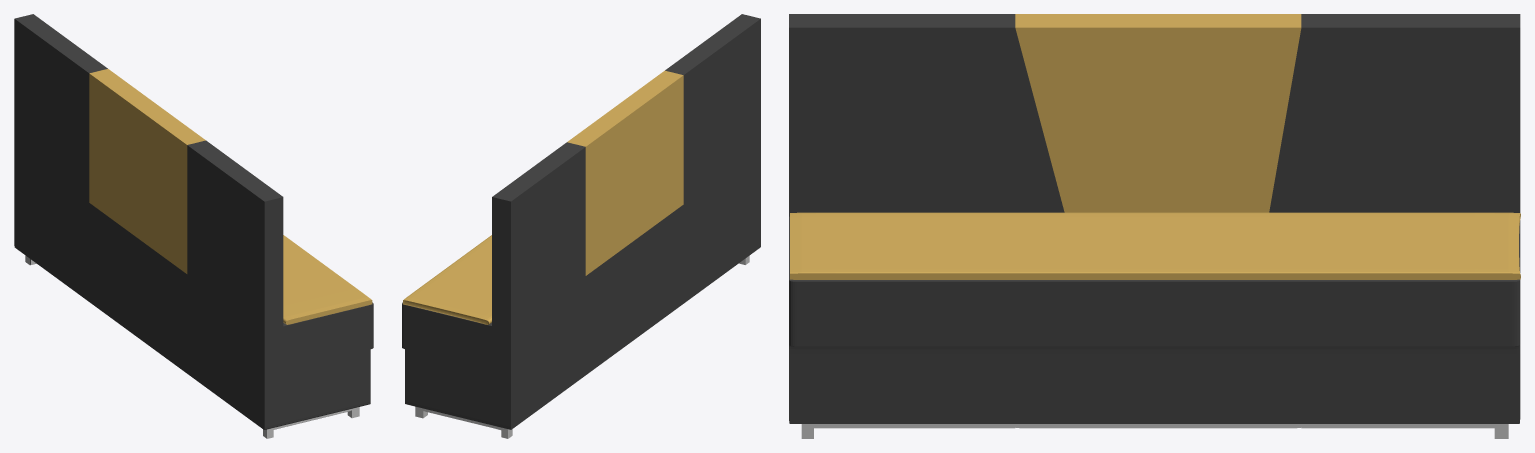
The model's file is BoothChair.fbx.
3 renders of one model, left to right at view 1: azimuth 30°, elevation 25°; view 2: azimuth 150°, elevation 25°; view 3: azimuth 270°, elevation 25°, orthographic. The views are drawn at different scales.
Parts seen in each view (by area): view 1: Booth Chair, Pad; view 2: Booth Chair, Pad; view 3: Booth Chair, Pad.
Boxes of the visible parts, x1,y1,x2,y2 form: Booth Chair: [14, 14, 373, 438]; Pad: [283, 235, 372, 324]; Booth Chair: [402, 14, 760, 438]; Pad: [403, 235, 491, 324]; Booth Chair: [789, 14, 1520, 438]; Pad: [790, 212, 1520, 279].
Bounding box in the file's own units: 176 × 369 × 692.
